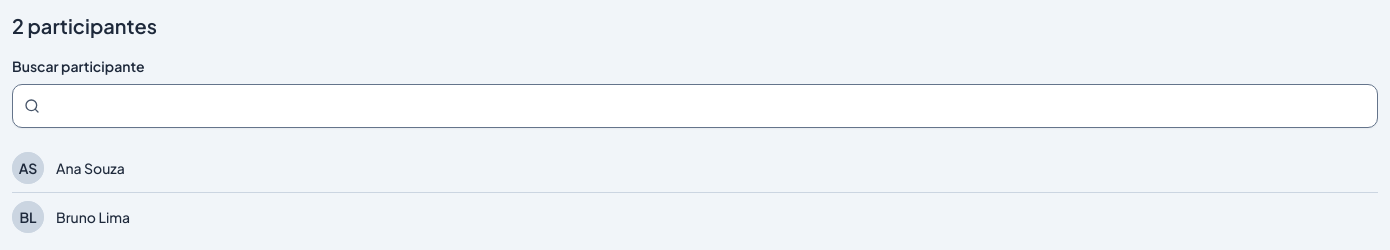
ParticipantsList › mostra Ninguém encontrado com esse nome.
In the search field labelled "Buscar participante": (695, 106) 12,84 -> 1378,128, type "zé"
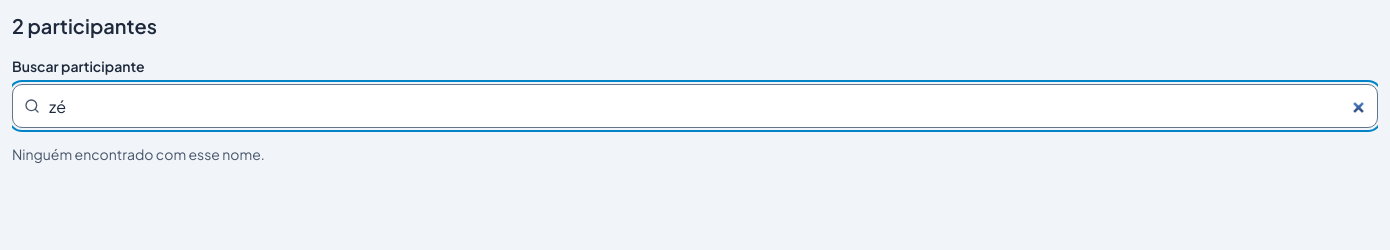
Check: the text "Ninguém encontrado com esse nome." is shown, box 12,145 -> 265,163
Check: no list items are shown
